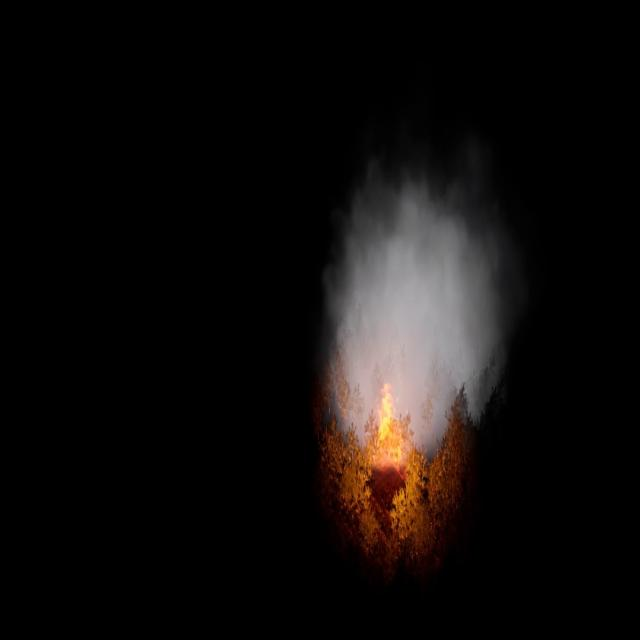fire: (374, 374, 413, 474)
smoke: (322, 159, 518, 452)
